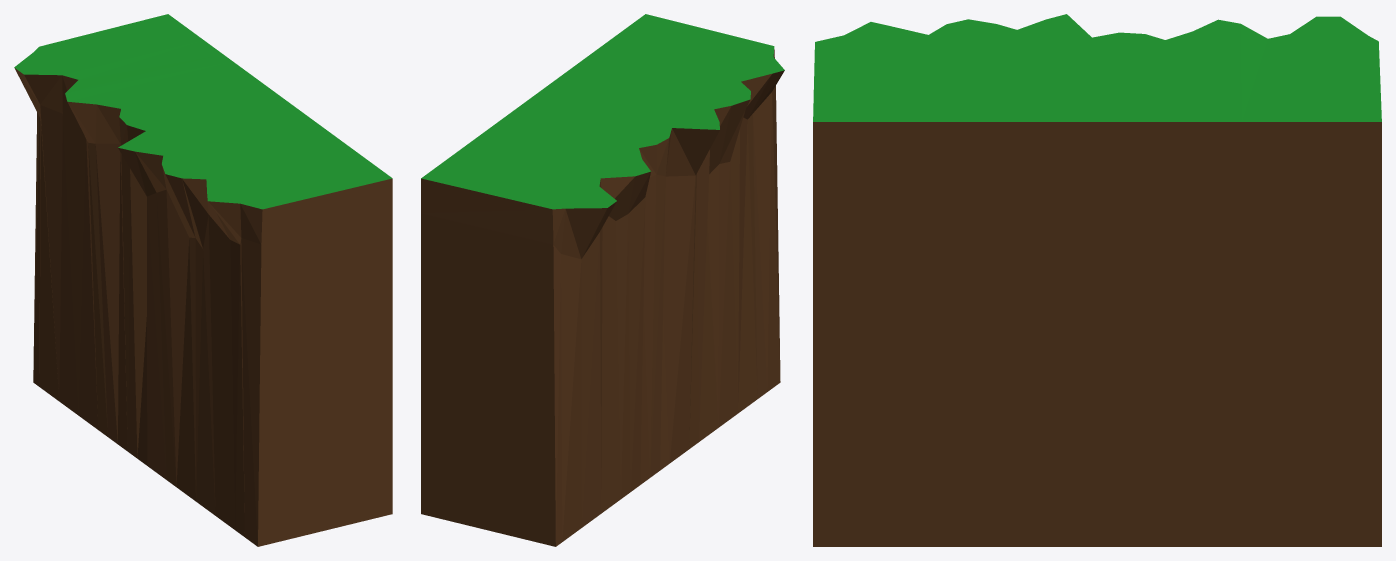
The model's file is Cliff.fbx.
The picture shows the model from 3 angles, left to right: view 1: azimuth 30°, elevation 25°; view 2: azimuth 150°, elevation 25°; view 3: azimuth 270°, elevation 25°; orthographic projection. The views are drawn at different scales.
Parts seen in each view (by area): view 1: Cube; view 2: Cube; view 3: Cube.
Part boxes in pixels (x1=…): Cube: x1=14, y1=14, x2=392, y2=546; Cube: x1=421, y1=14, x2=784, y2=546; Cube: x1=813, y1=14, x2=1381, y2=546.
Size of the model in its own units: 893 by 1640 by 1989.
